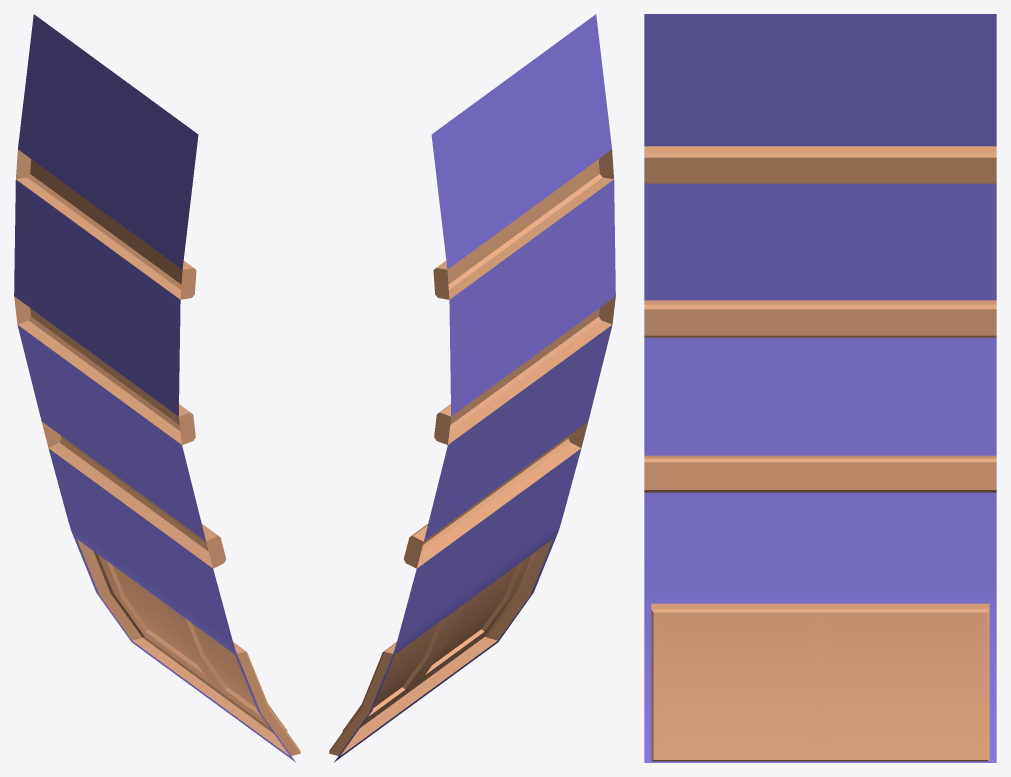
File: curved_wall.fbx
3 views of the same model, side by side, from view 1: azimuth 30°, elevation 25°; view 2: azimuth 150°, elevation 25°; view 3: azimuth 270°, elevation 25° (orthographic). The views are drawn at different scales.
Visible parts, largest first — view 1: Object001; view 2: Object001; view 3: Object001.
Boxes of the visible parts, box(x1,y1,x2,y2) form: Object001: box(14, 14, 300, 762); Object001: box(329, 14, 615, 762); Object001: box(644, 14, 996, 762).
Size of the model in its own units: 0.4447 by 2.2 by 1.01.
